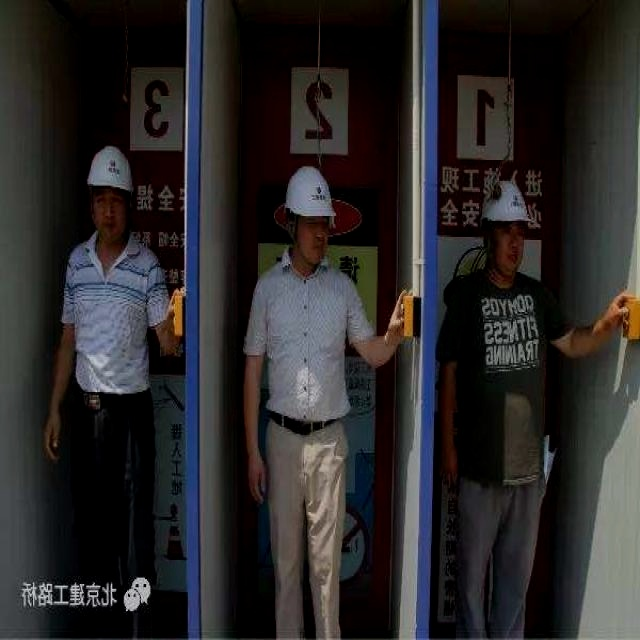Con_Casco: (85, 145, 132, 230), (285, 168, 332, 252), (481, 181, 530, 259)
Sin_Chaleco: (446, 275, 555, 473), (250, 264, 358, 427), (63, 237, 161, 402)
